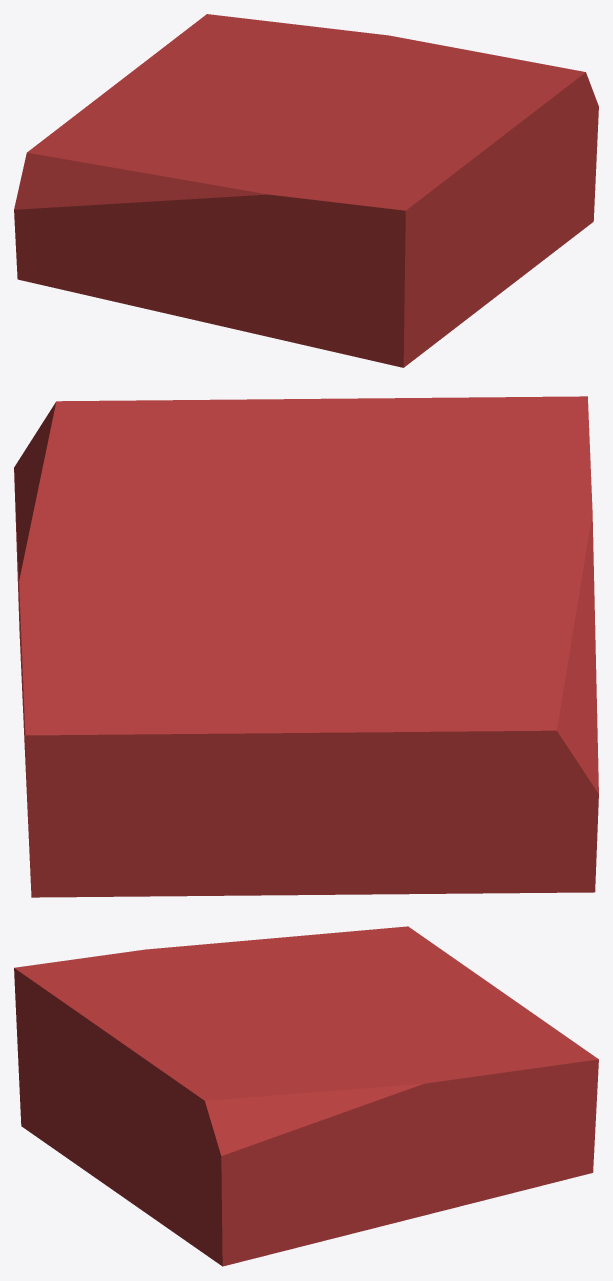
The model's file is ea_arch_wall03_rubble_01b_pre__19__8_lev1.glb.
The picture shows the model from 3 angles, top to bottom: view 1: azimuth 30°, elevation 25°; view 2: azimuth 150°, elevation 25°; view 3: azimuth 270°, elevation 25°; orthographic projection. The views are drawn at different scales.
Parts seen in each view (by area): view 1: ea_arch_wall03_rubble_01b_pre__19__8_lev1; view 2: ea_arch_wall03_rubble_01b_pre__19__8_lev1; view 3: ea_arch_wall03_rubble_01b_pre__19__8_lev1.
Boxes of the visible parts, x1,y1,x2,y2 form: ea_arch_wall03_rubble_01b_pre__19__8_lev1: [14, 14, 598, 367]; ea_arch_wall03_rubble_01b_pre__19__8_lev1: [14, 396, 598, 897]; ea_arch_wall03_rubble_01b_pre__19__8_lev1: [14, 926, 598, 1266].
Size of the model in its own units: 0.6693 by 0.2066 by 0.6917.
1 material, 1 textured.
